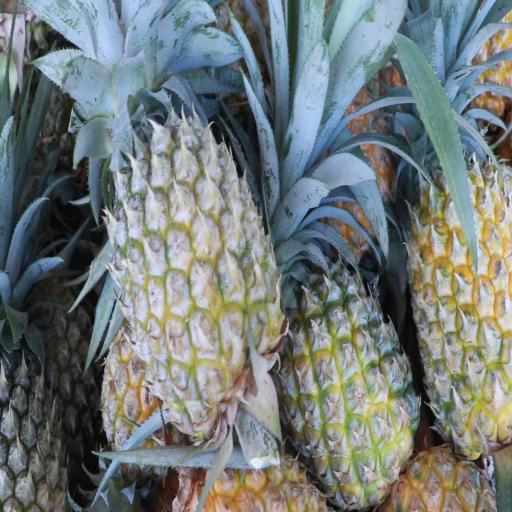------------------------------: (117, 113, 276, 416)
Pineapple - v8 v1: (402, 169, 512, 449), (280, 272, 415, 500)
